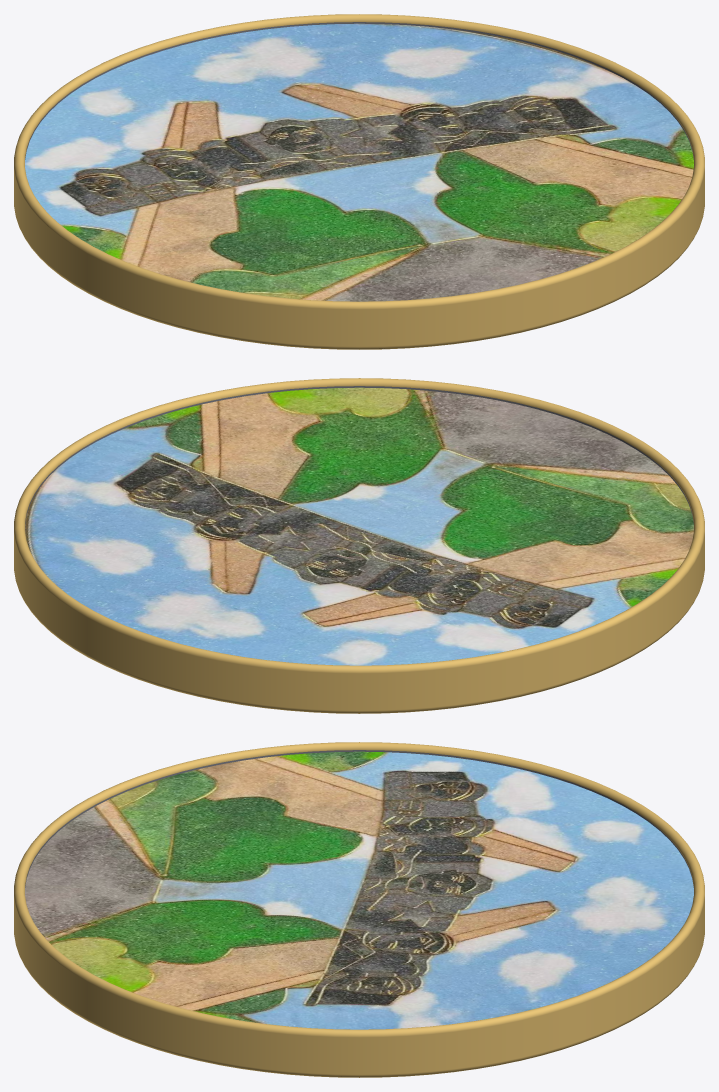
The model's file is 高桥镇.glb.
The picture shows the model from 3 angles, top to bottom: view 1: azimuth 30°, elevation 25°; view 2: azimuth 150°, elevation 25°; view 3: azimuth 270°, elevation 25°; orthographic projection.
Visible parts, largest first — view 1: Mesh_1, Mesh_2, Mesh_0; view 2: Mesh_1, Mesh_2, Mesh_0; view 3: Mesh_1, Mesh_2, Mesh_0.
Part boxes in pixels (left/top/right/bottom): Mesh_1: left=25, top=23, right=693, bottom=301; Mesh_2: left=14, top=14, right=704, bottom=349; Mesh_0: left=25, top=22, right=693, bottom=159; Mesh_1: left=25, top=387, right=693, bottom=665; Mesh_2: left=14, top=378, right=704, bottom=713; Mesh_0: left=25, top=386, right=693, bottom=523; Mesh_1: left=25, top=751, right=693, bottom=1029; Mesh_2: left=14, top=742, right=704, bottom=1077; Mesh_0: left=25, top=750, right=693, bottom=887.
Bounding box in the file's own units: 0.186 × 0.014 × 0.1859.
3 materials, 1 textured.
